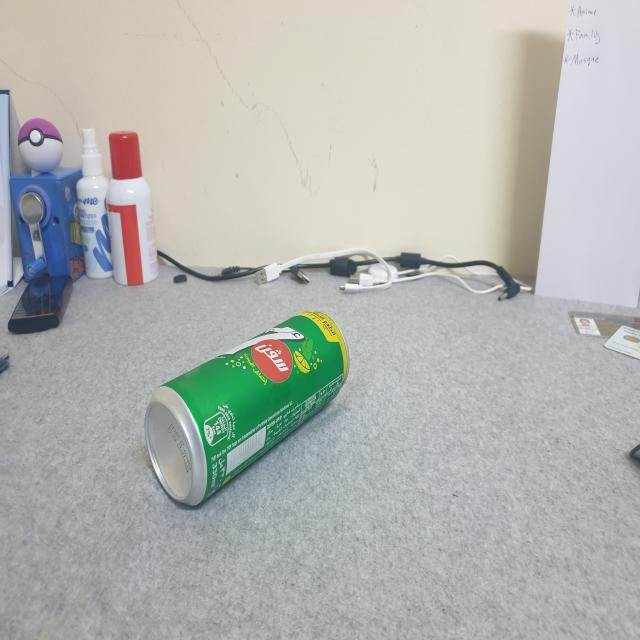non-organic waste: (138, 297, 364, 518)
